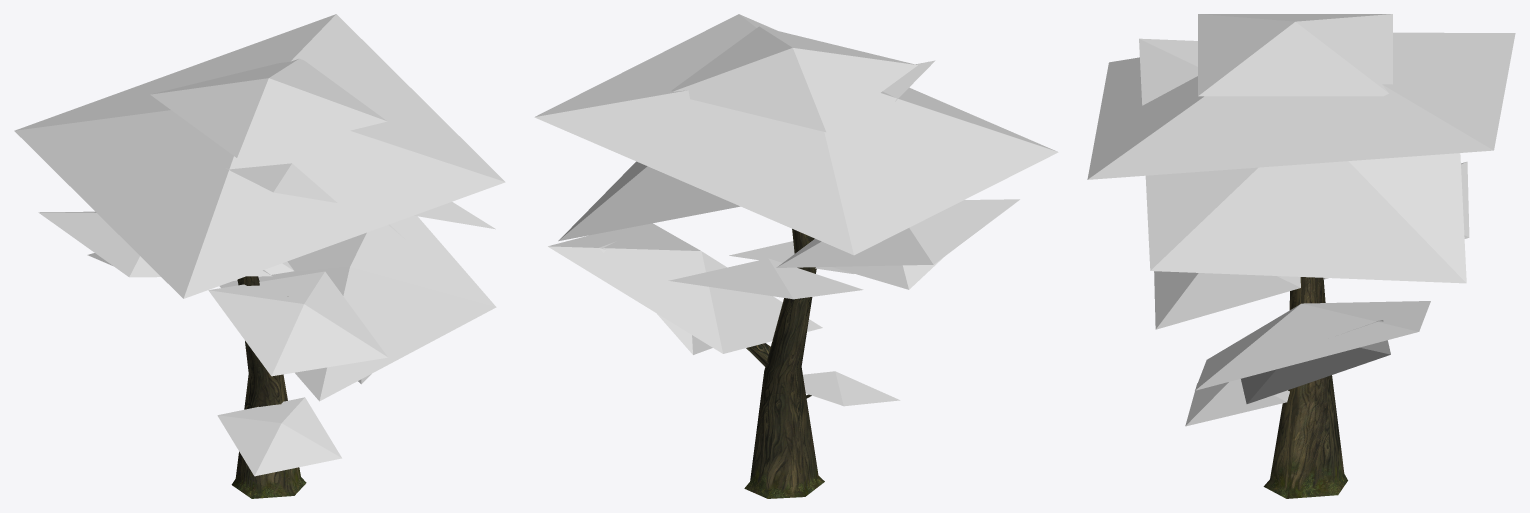
Rendered from LilTree3_NOLOD.fbx.
3 views of the same model, side by side, from view 1: azimuth 30°, elevation 25°; view 2: azimuth 150°, elevation 25°; view 3: azimuth 270°, elevation 25° (orthographic). The views are drawn at different scales.
Parts seen in each view (by area): view 1: liltree3_LOD0; view 2: liltree3_LOD0; view 3: liltree3_LOD0.
Part boxes in pixels (x1,y1,x2,y2): liltree3_LOD0: [14, 14, 505, 498]; liltree3_LOD0: [534, 14, 1058, 498]; liltree3_LOD0: [1087, 14, 1515, 498].
Bounding box in the file's own units: 997 × 1070 × 905.
